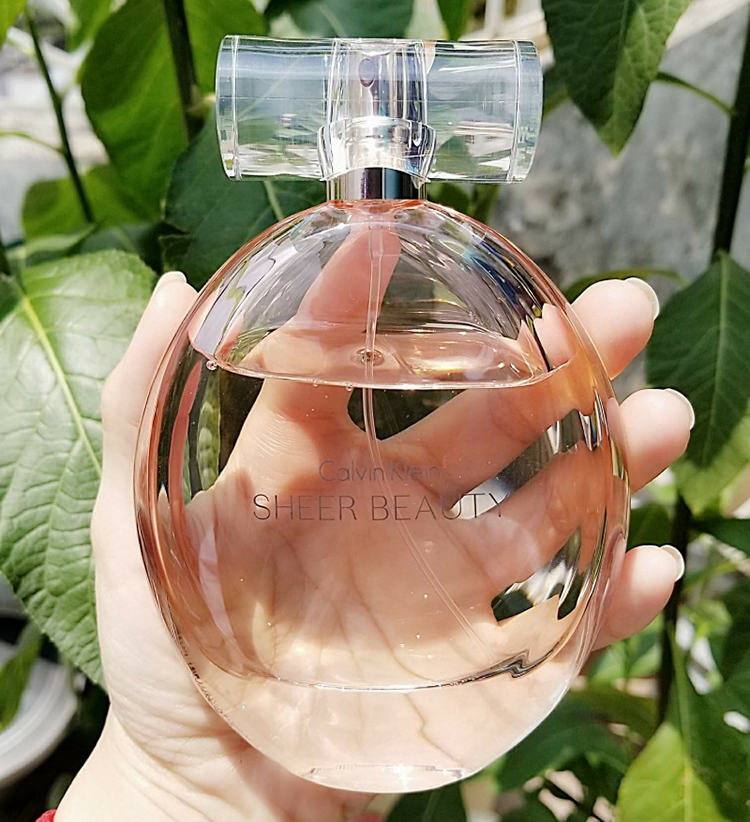Calvin Klein: (317, 454, 447, 488)
